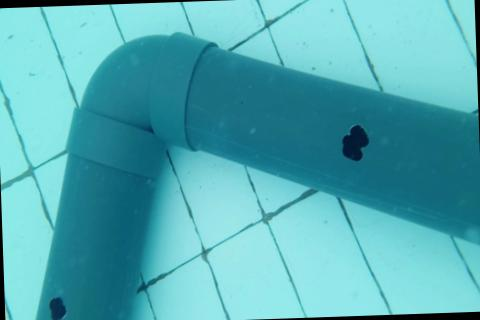kebocoran: (340, 122, 371, 163), (48, 293, 67, 320)
